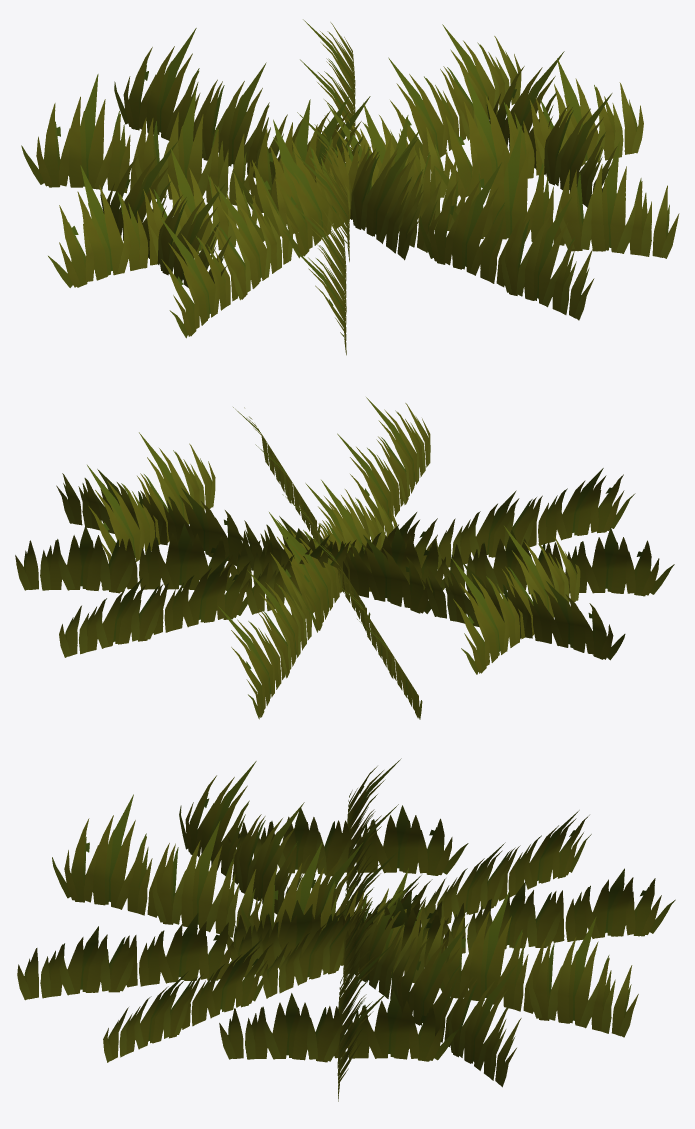
File: cem_grass_02.fbx
The picture shows the model from 3 angles, top to bottom: view 1: azimuth 30°, elevation 25°; view 2: azimuth 150°, elevation 25°; view 3: azimuth 270°, elevation 25°; orthographic projection. The views are drawn at different scales.
Visible parts, largest first — view 1: cem_grass_02; view 2: cem_grass_02; view 3: cem_grass_02.
Boxes of the visible parts, <box> form: cem_grass_02: <box>21,19,679,355</box>; cem_grass_02: <box>15,397,674,719</box>; cem_grass_02: <box>17,758,675,1101</box>.
Size of the model in its own units: 286 by 44.55 by 277.
Materials: 1 (1 with a texture image).
